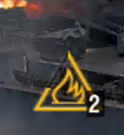2fire: (31, 74, 106, 117)
